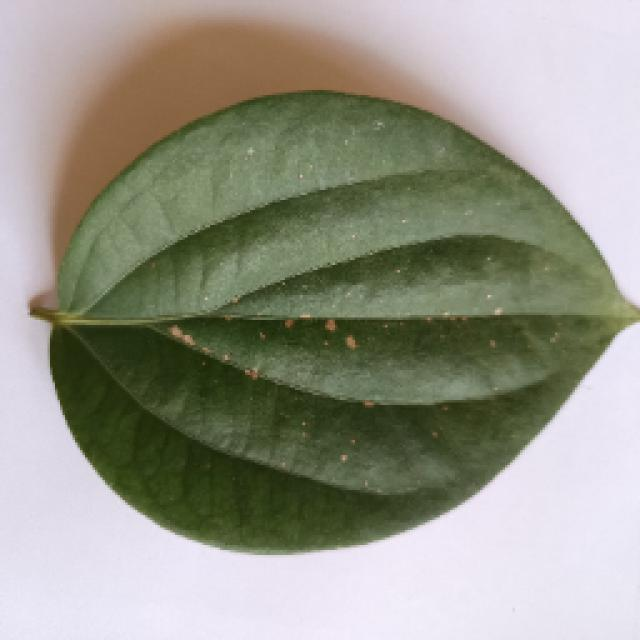pollu-disease: (27, 82, 635, 560)
